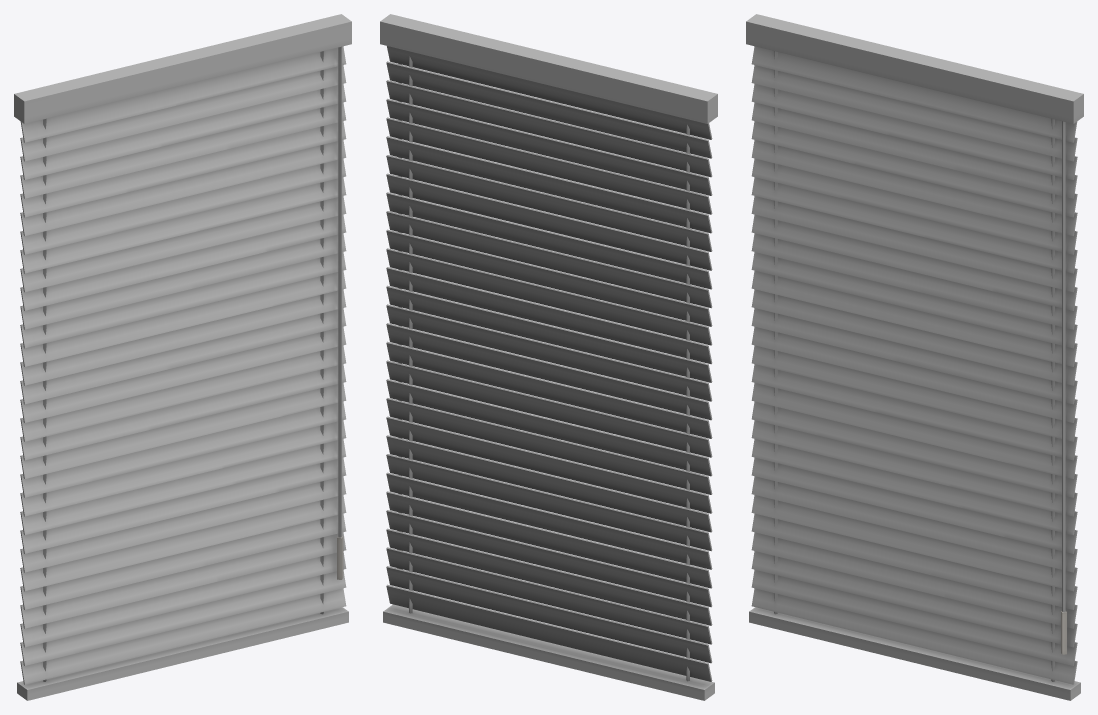
File: sb_obj_ModernCity047_blind_b.fbx
3 renders of one model, left to right at view 1: azimuth 30°, elevation 25°; view 2: azimuth 150°, elevation 25°; view 3: azimuth 330°, elevation 25°, orthographic.
Visible parts, largest first — view 1: sb_obj_ModernCity047_blind_b; view 2: sb_obj_ModernCity047_blind_b; view 3: sb_obj_ModernCity047_blind_b.
Boxes of the visible parts, left/top/right/bottom form: sb_obj_ModernCity047_blind_b: left=14, top=14, right=351, bottom=700; sb_obj_ModernCity047_blind_b: left=380, top=14, right=717, bottom=700; sb_obj_ModernCity047_blind_b: left=746, top=14, right=1083, bottom=700.
Size of the model in its own units: 0.7336 by 1.28 by 0.0425.
1 material, 1 textured.
